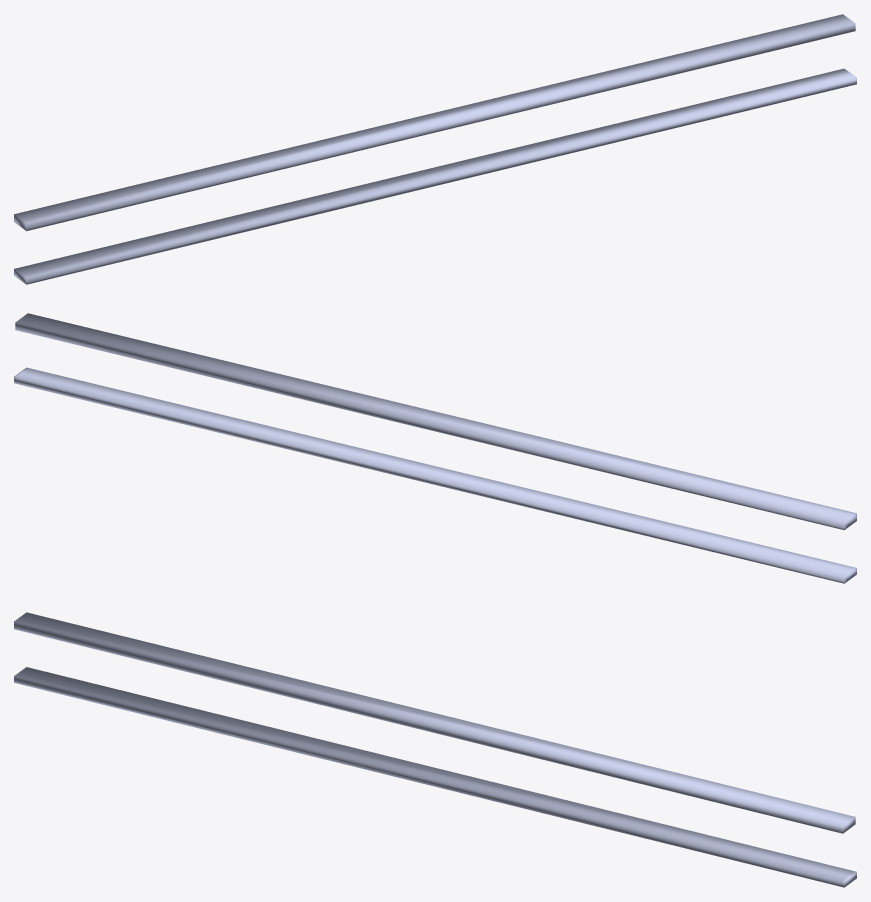
File: part5_edited.obj
The picture shows the model from 3 angles, top to bottom: view 1: azimuth 30°, elevation 25°; view 2: azimuth 150°, elevation 25°; view 3: azimuth 330°, elevation 25°; orthographic projection.
Size of the model in its own units: 0.0306 by 0.00224 by 0.0008.
